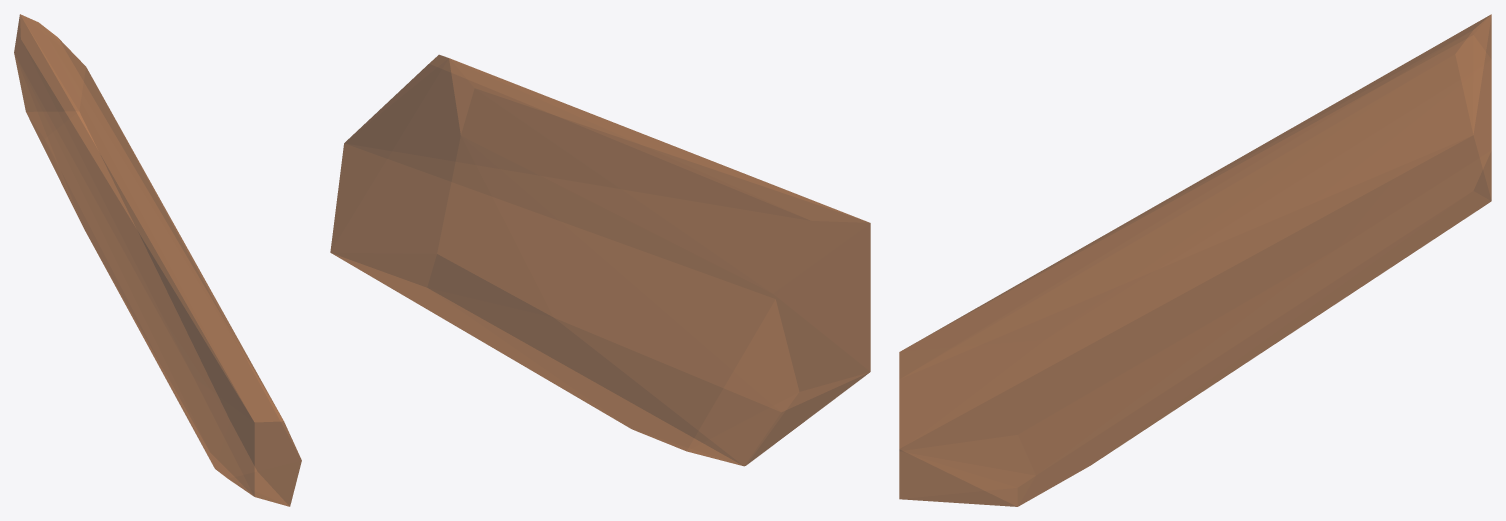
The picture shows the model from 3 angles, left to right: view 1: azimuth 30°, elevation 25°; view 2: azimuth 150°, elevation 25°; view 3: azimuth 270°, elevation 25°; orthographic projection. The views are drawn at different scales.
Parts seen in each view (by area): view 1: Shape_IndexedFaceSet.005_Shape_IndexedFaceSet.15210; view 2: Shape_IndexedFaceSet.005_Shape_IndexedFaceSet.15210; view 3: Shape_IndexedFaceSet.005_Shape_IndexedFaceSet.15210.
Part boxes in pixels (box(x1,y1,x2,y2)): Shape_IndexedFaceSet.005_Shape_IndexedFaceSet.15210: box(14, 14, 301, 506); Shape_IndexedFaceSet.005_Shape_IndexedFaceSet.15210: box(330, 54, 870, 466); Shape_IndexedFaceSet.005_Shape_IndexedFaceSet.15210: box(899, 14, 1491, 506).
Bounding box in the file's own units: 0.00479 × 0.0239 × 0.0283.
